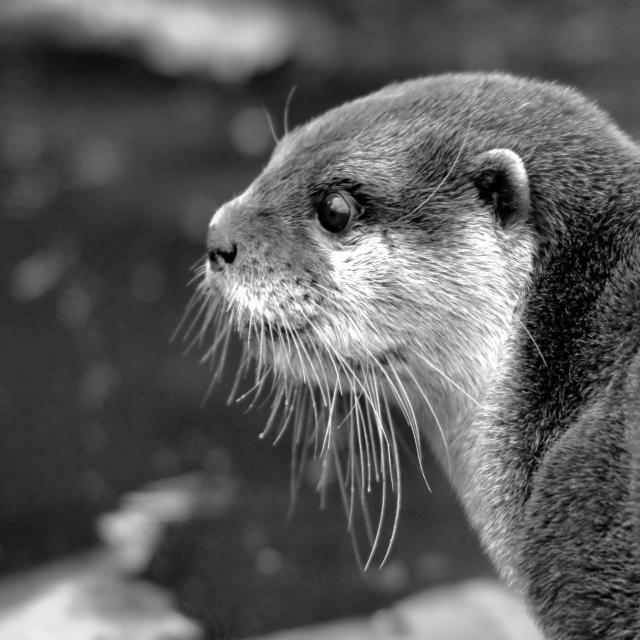otter: (209, 74, 640, 640)
